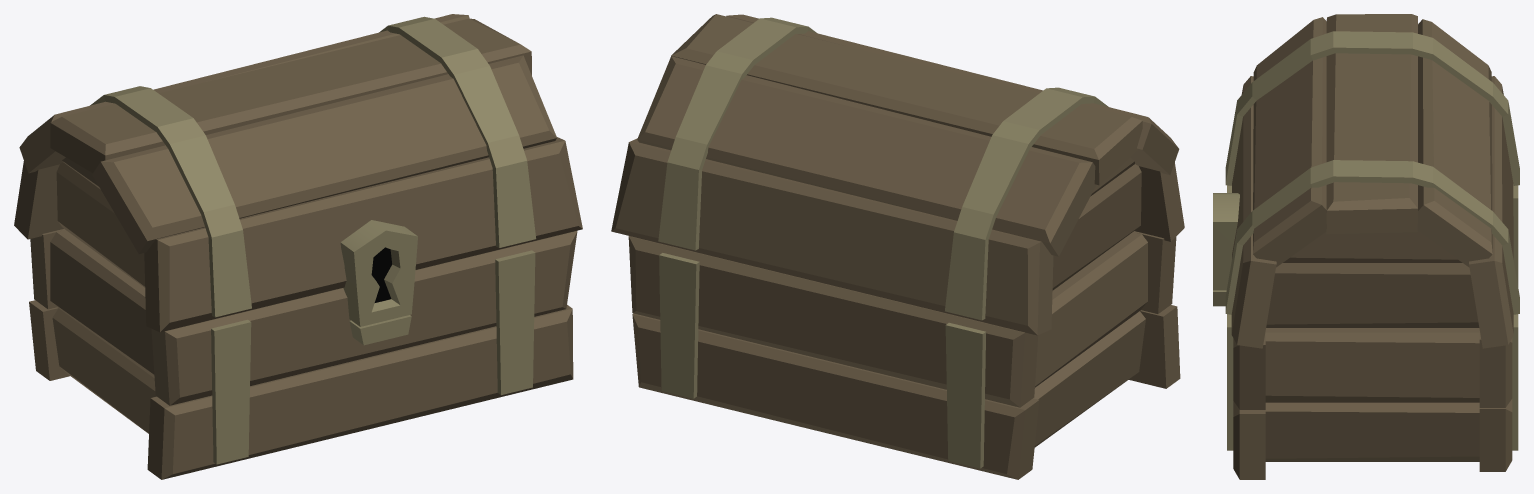
Rendered from Chest.fbx.
3 renders of one model, left to right at view 1: azimuth 30°, elevation 25°; view 2: azimuth 150°, elevation 25°; view 3: azimuth 270°, elevation 25°, orthographic. The views are drawn at different scales.
Visible parts, largest first — view 1: Top part, Down part; view 2: Top part, Down part; view 3: Top part, Down part.
Boxes of the visible parts, box(x1,y1,x2,y2) form: Top part: box(14, 14, 582, 332); Down part: box(29, 229, 577, 479); Top part: box(611, 14, 1184, 335); Down part: box(628, 231, 1180, 479); Top part: box(1213, 14, 1519, 348); Down part: box(1213, 184, 1518, 479).
Bounding box in the file's own units: 150 × 100 × 98.4.
